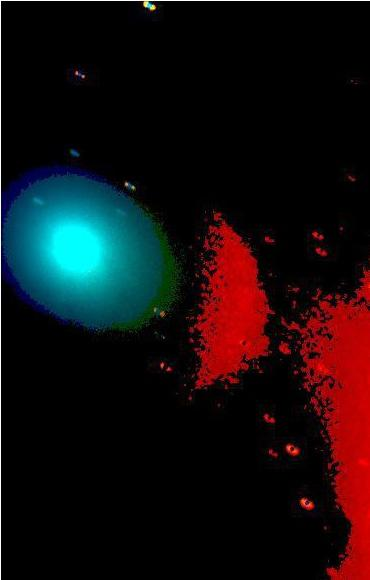star: (346, 444, 370, 474)
